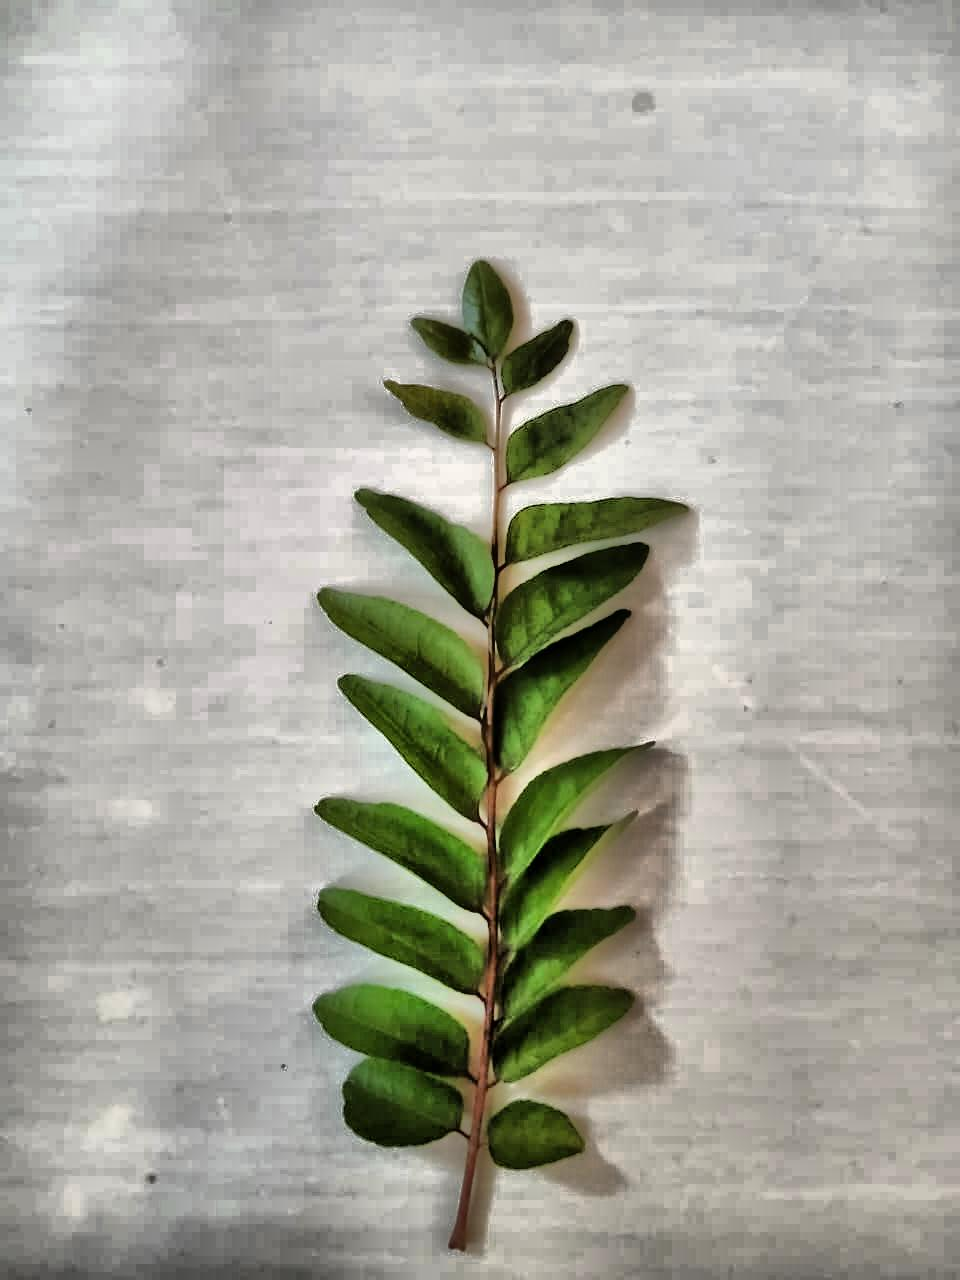daun kari: (314, 261, 688, 1250)
